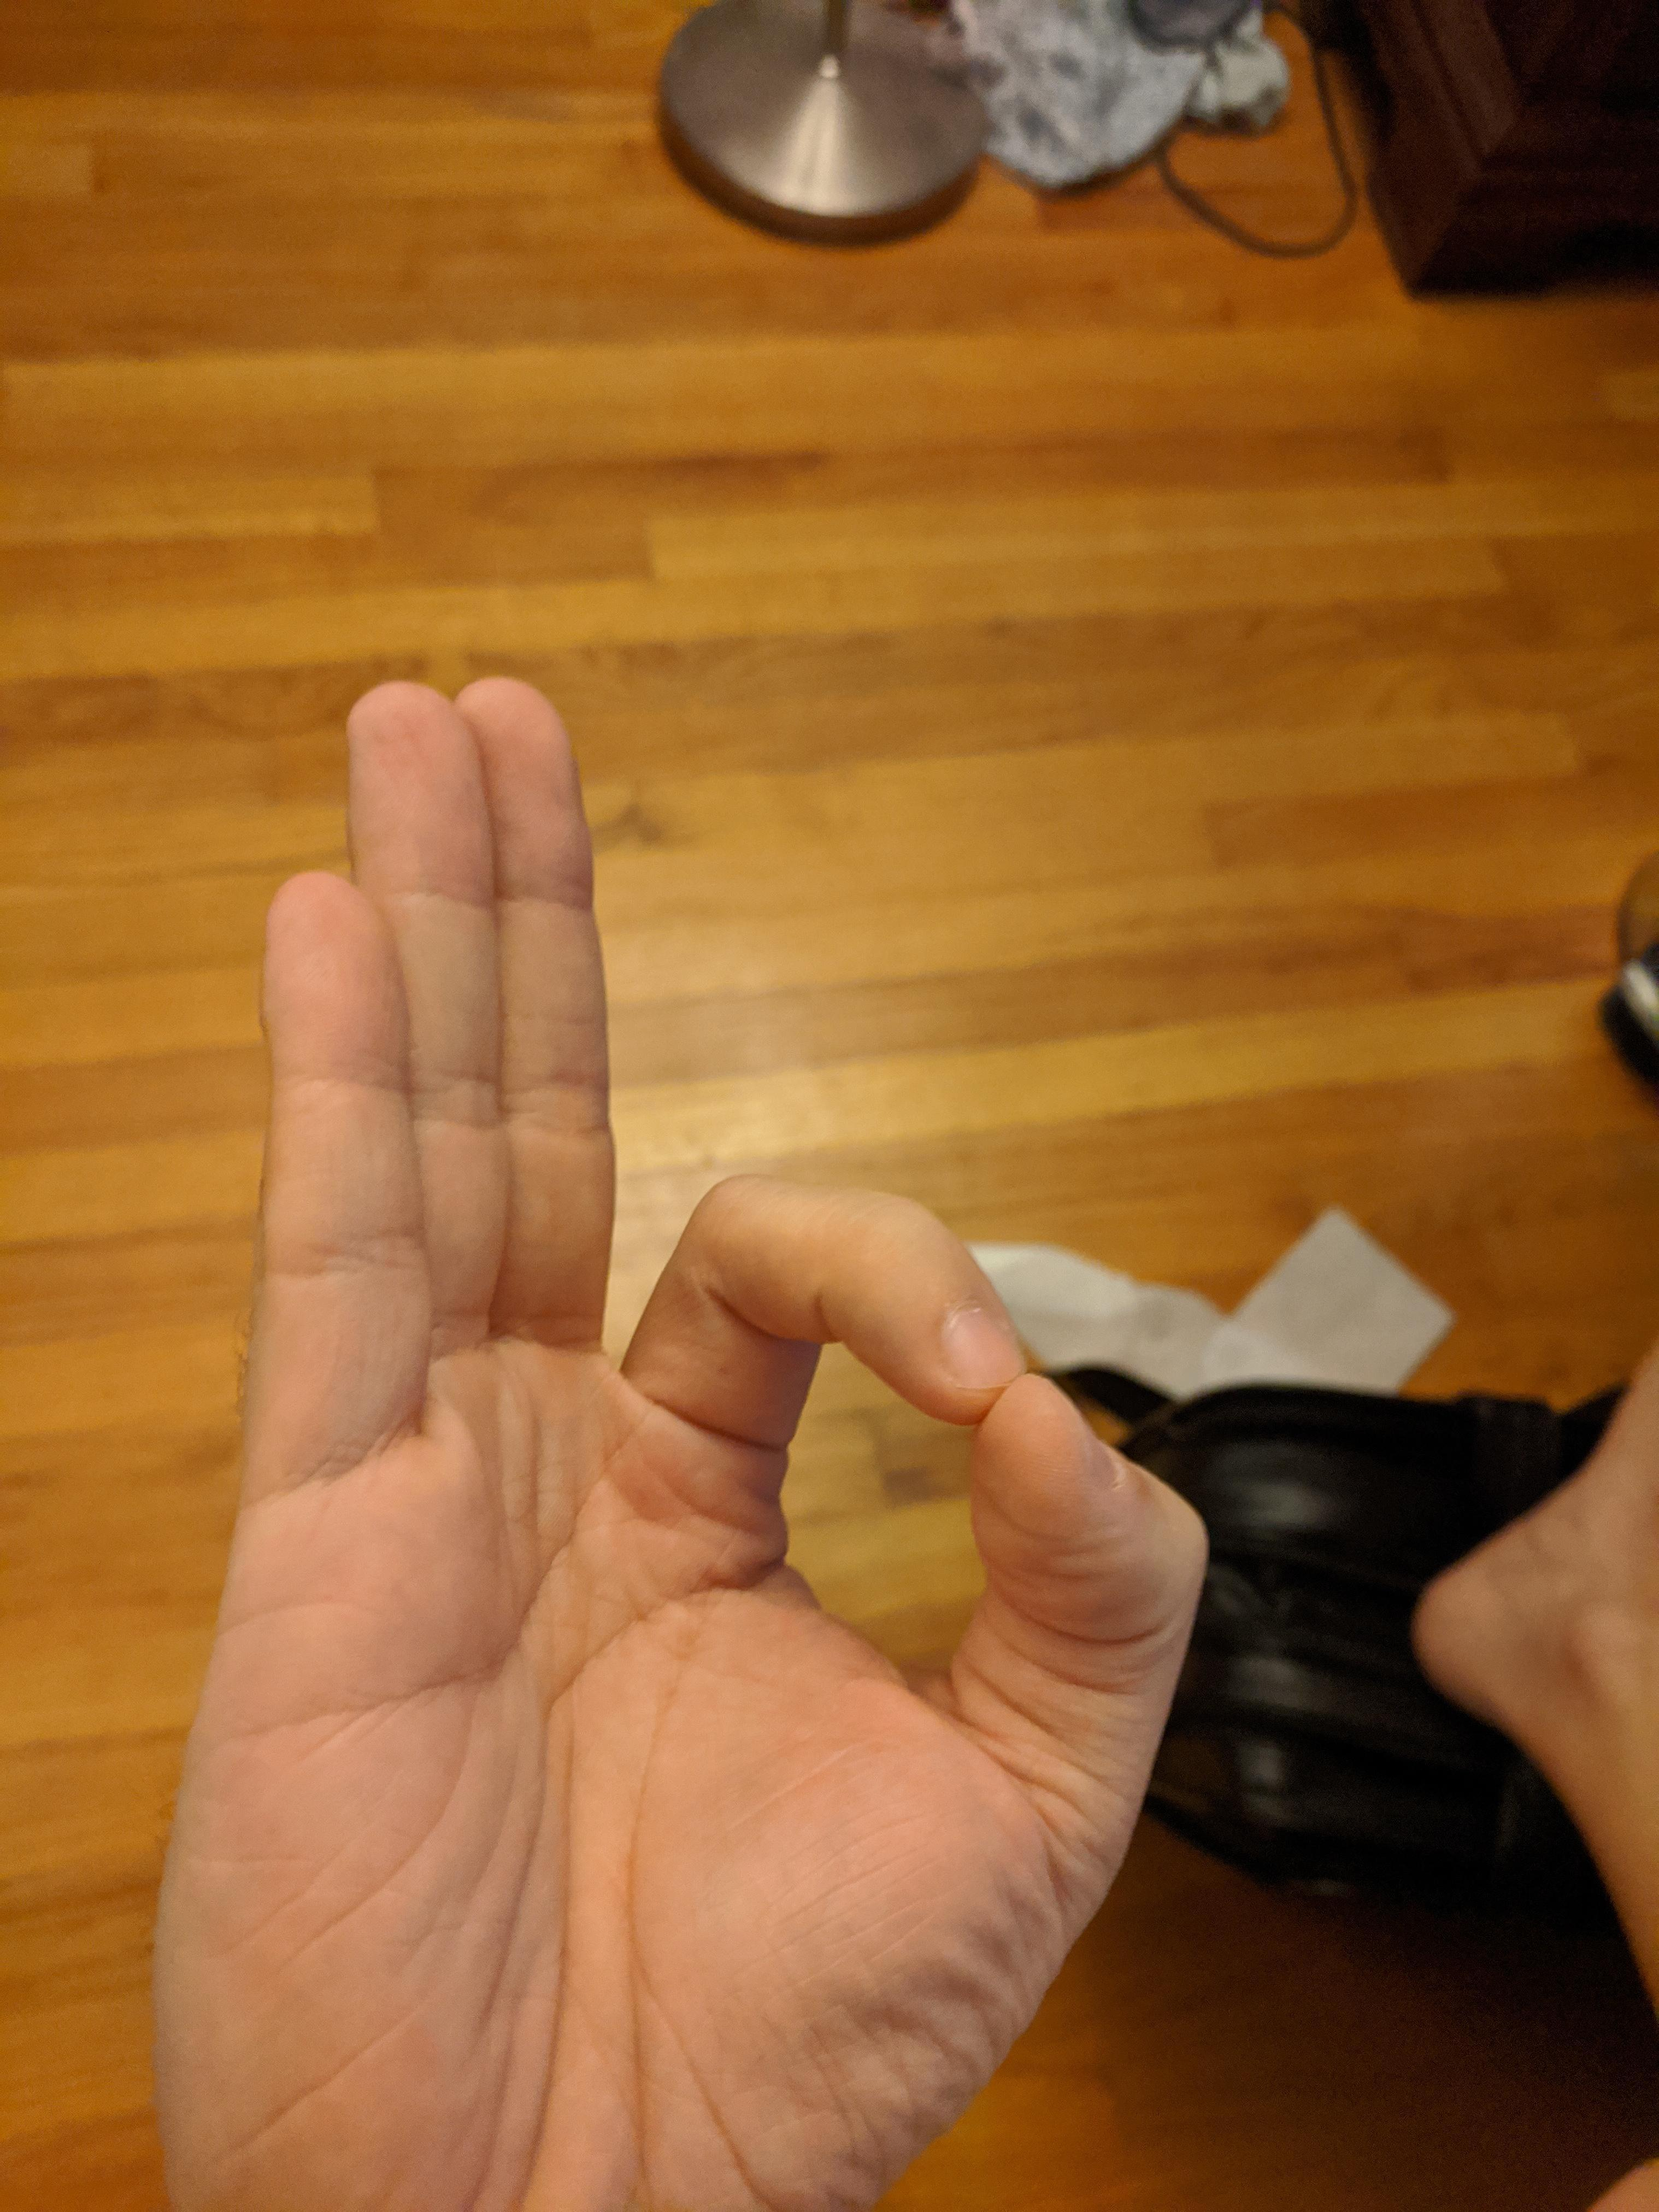F: (125, 646, 1229, 2212)
